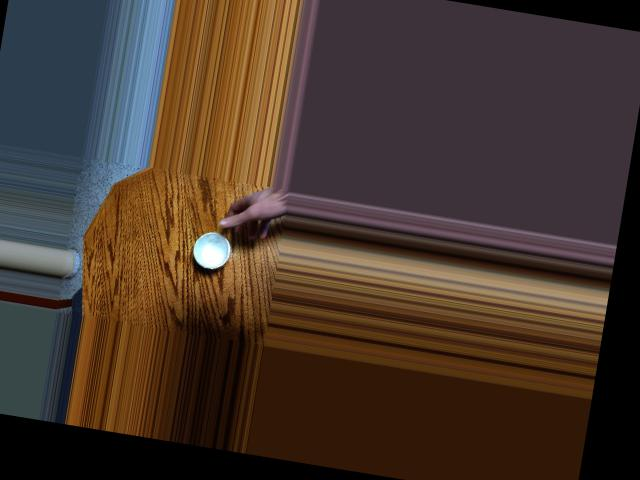cotage: (181, 225, 242, 280)
